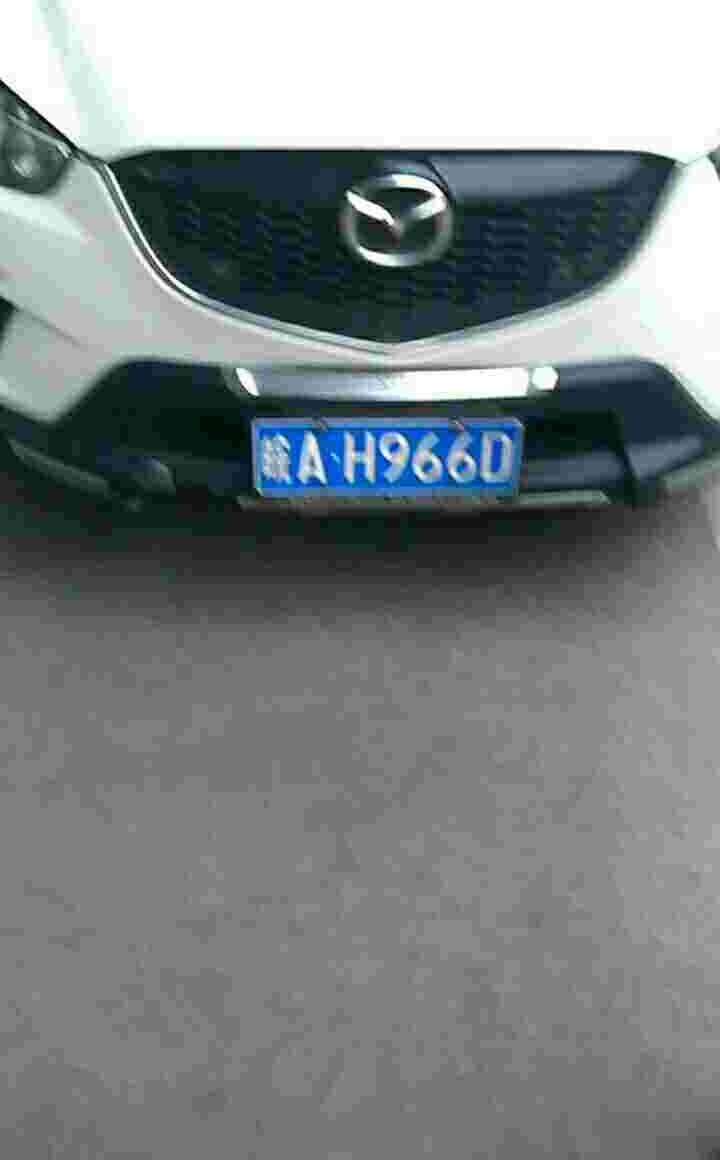plate: (258, 416, 524, 499)
